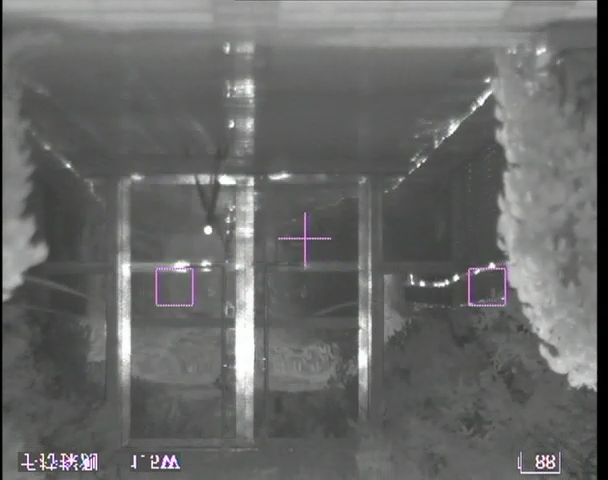my: (202, 224, 213, 236)
